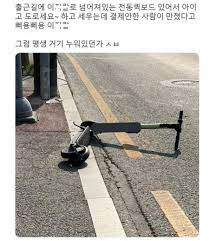fallin_kick: (61, 112, 183, 158)
